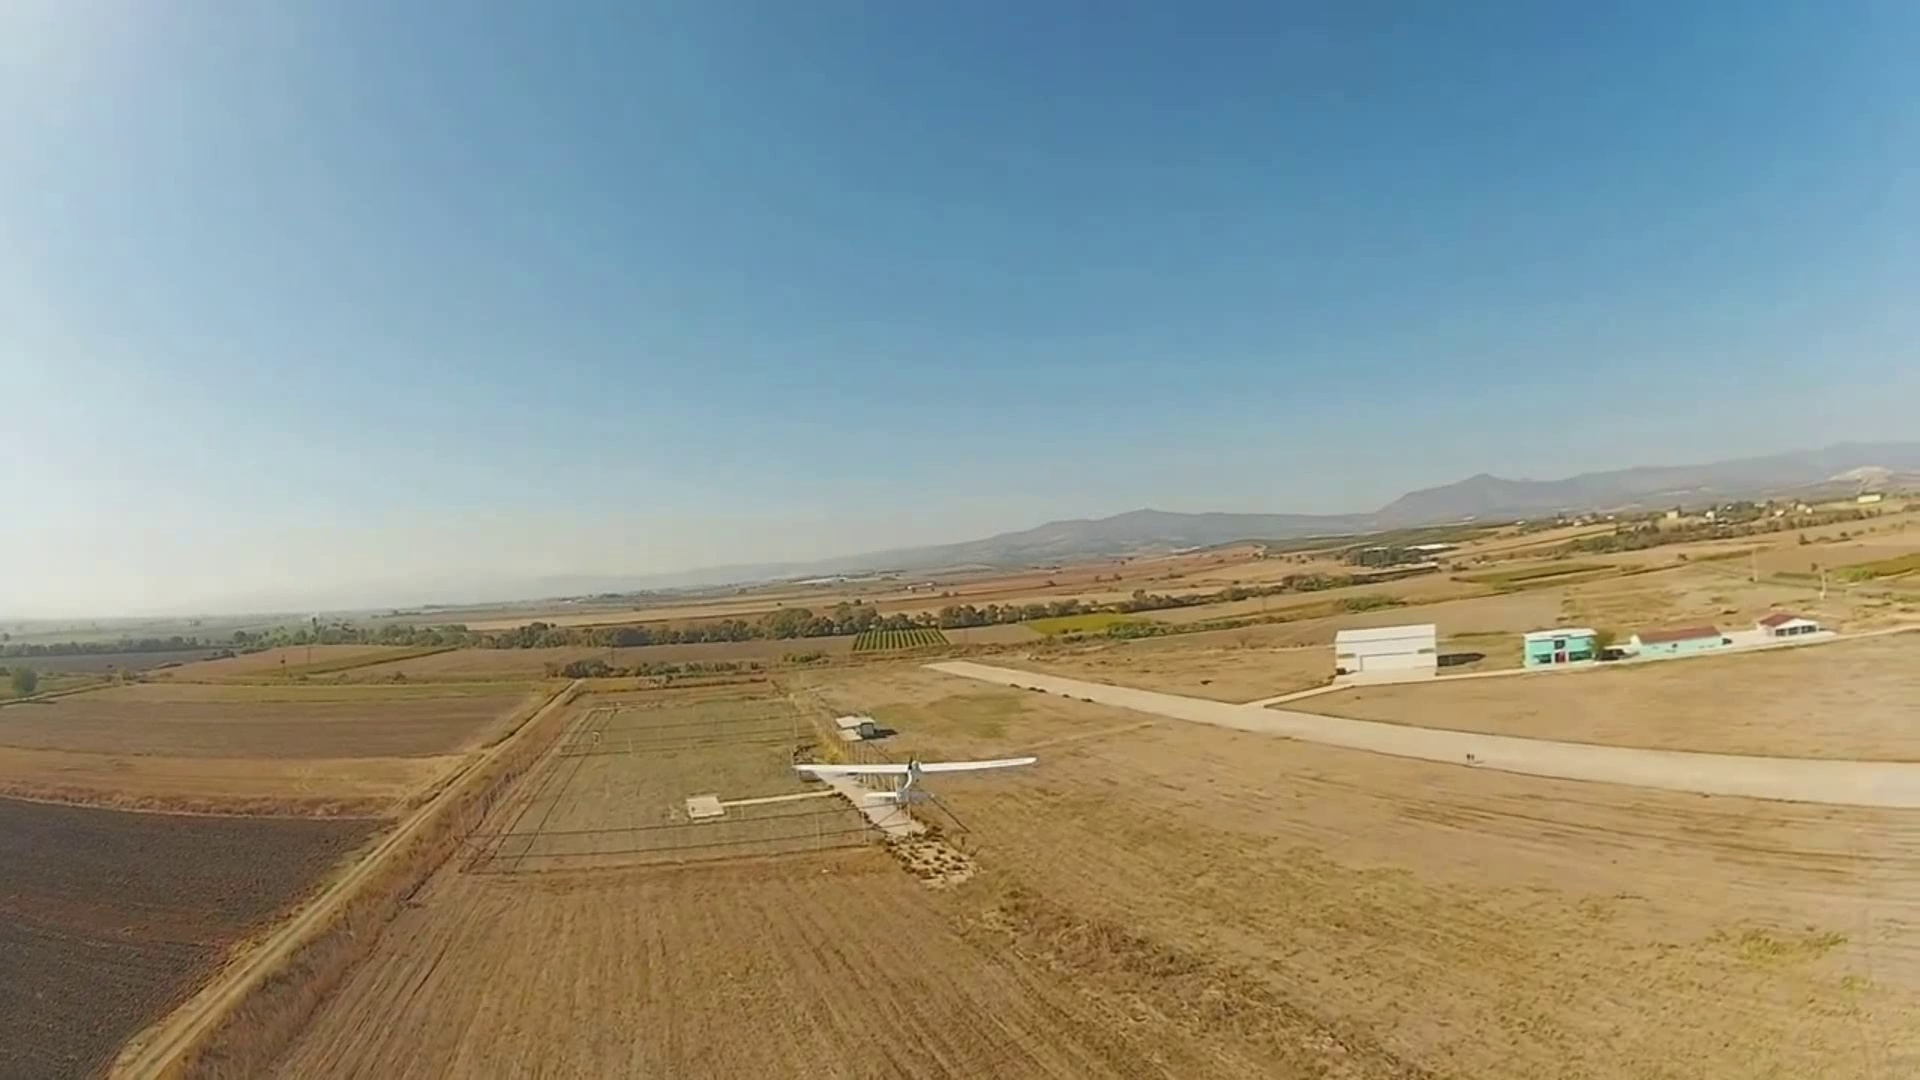airplane: (793, 713, 1040, 862)
